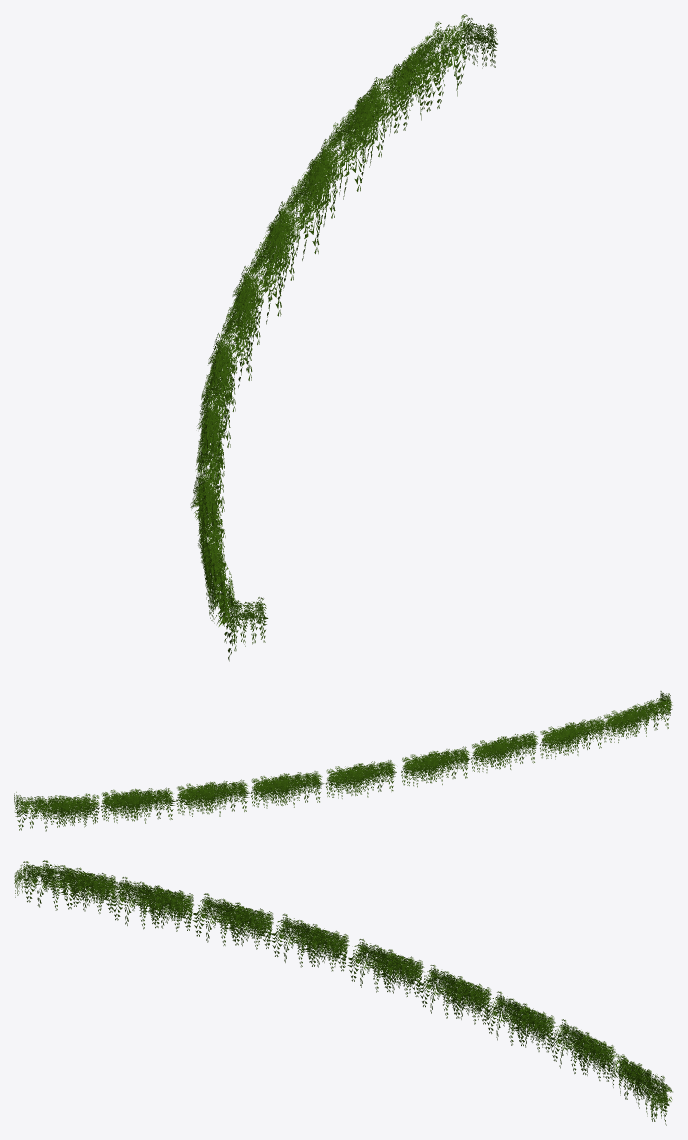
Rendered from Ivy03_Web.glb.
3 renders of one model, top to bottom at view 1: azimuth 30°, elevation 25°; view 2: azimuth 150°, elevation 25°; view 3: azimuth 270°, elevation 25°, orthographic. The views are drawn at different scales.
Visible parts, largest first — view 1: Ivy03.002; view 2: Ivy03.002; view 3: Ivy03.002.
Boxes of the visible parts, left/top/right/bottom form: Ivy03.002: left=190, top=14, right=497, bottom=661; Ivy03.002: left=14, top=691, right=672, bottom=831; Ivy03.002: left=14, top=860, right=672, bottom=1125.
Bounding box in the file's own units: 28.47 × 2.7 × 33.89.
